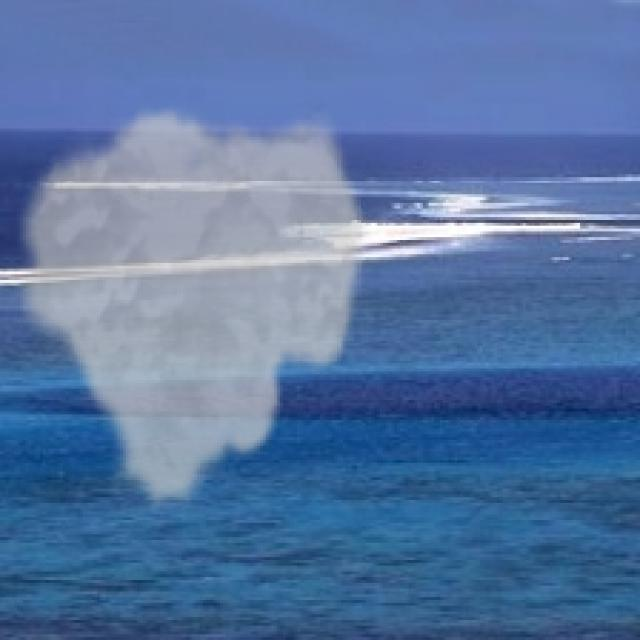Smoke: (9, 102, 372, 514)
